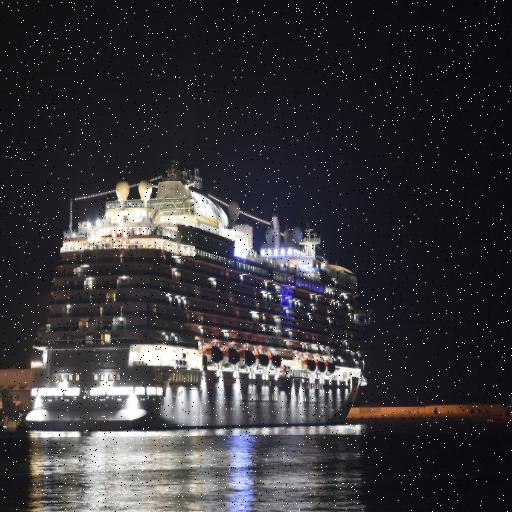cruises: (17, 152, 376, 446)
